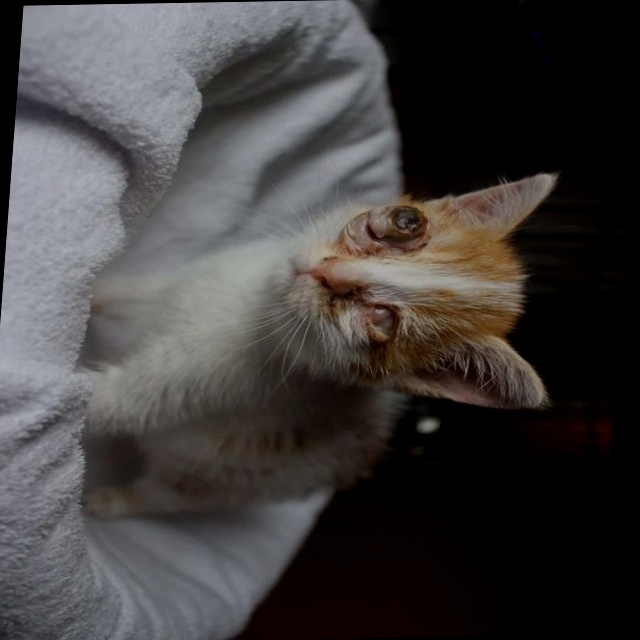eye_infection: (373, 206, 421, 252), (358, 304, 401, 344)
